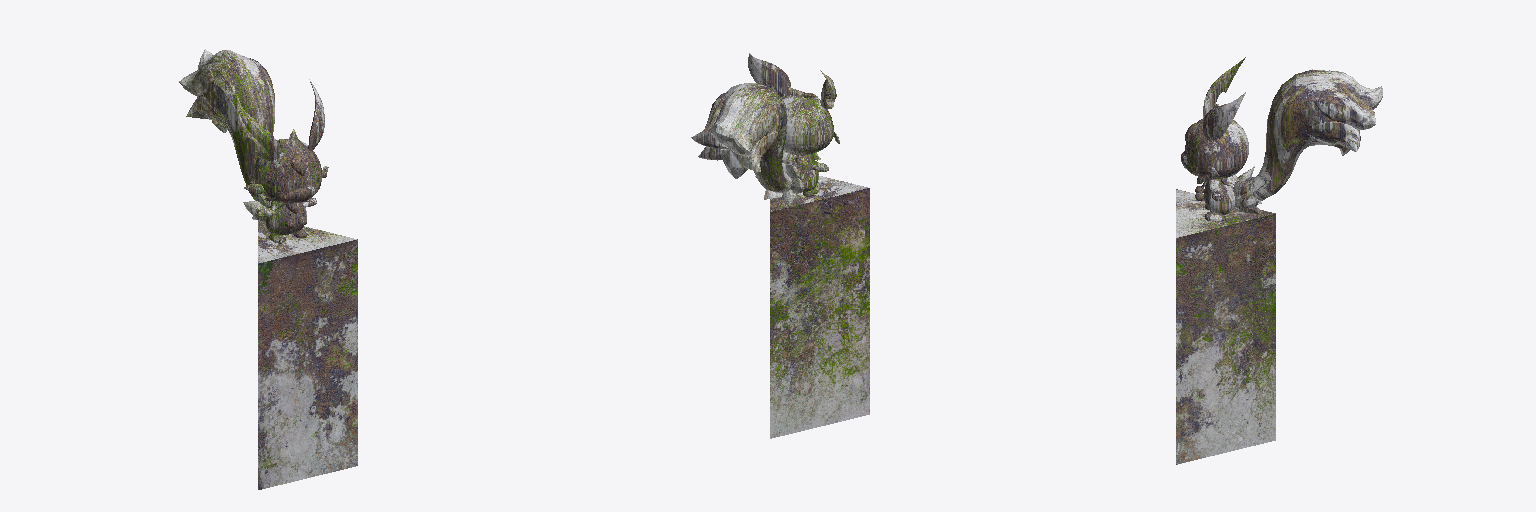
The picture shows the model from 3 angles: view 1: azimuth 30°, elevation 25°; view 2: azimuth 150°, elevation 25°; view 3: azimuth 270°, elevation 25°; orthographic projection.
Parts seen in each view (by area): view 1: Prism001, Lifmunk; view 2: Prism001, Lifmunk; view 3: Prism001, Lifmunk.
Part boxes in pixels (x1,y1,x2,y2): Prism001: (258, 221, 357, 489); Lifmunk: (179, 49, 328, 243); Prism001: (770, 176, 869, 438); Lifmunk: (691, 53, 839, 205); Prism001: (1176, 189, 1275, 464); Lifmunk: (1181, 57, 1382, 220).
Bounding box in the file's own units: 3 × 10.57 × 5.38.
Materials: 1 (1 with a texture image).